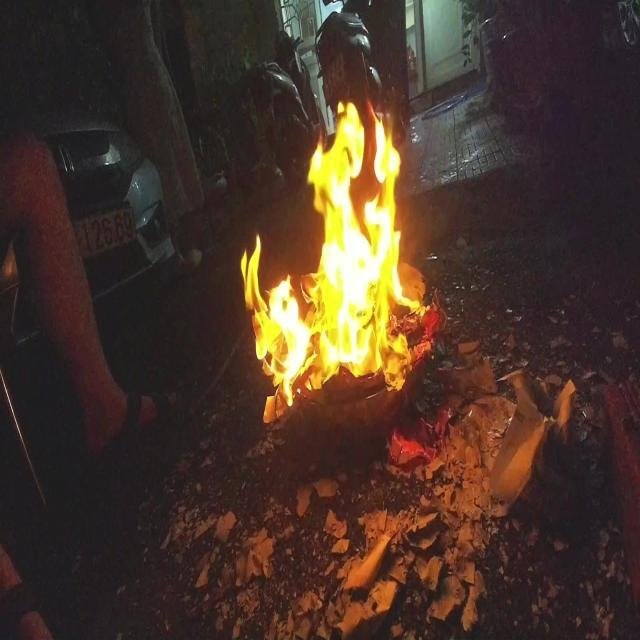Fire: (239, 101, 426, 410)
